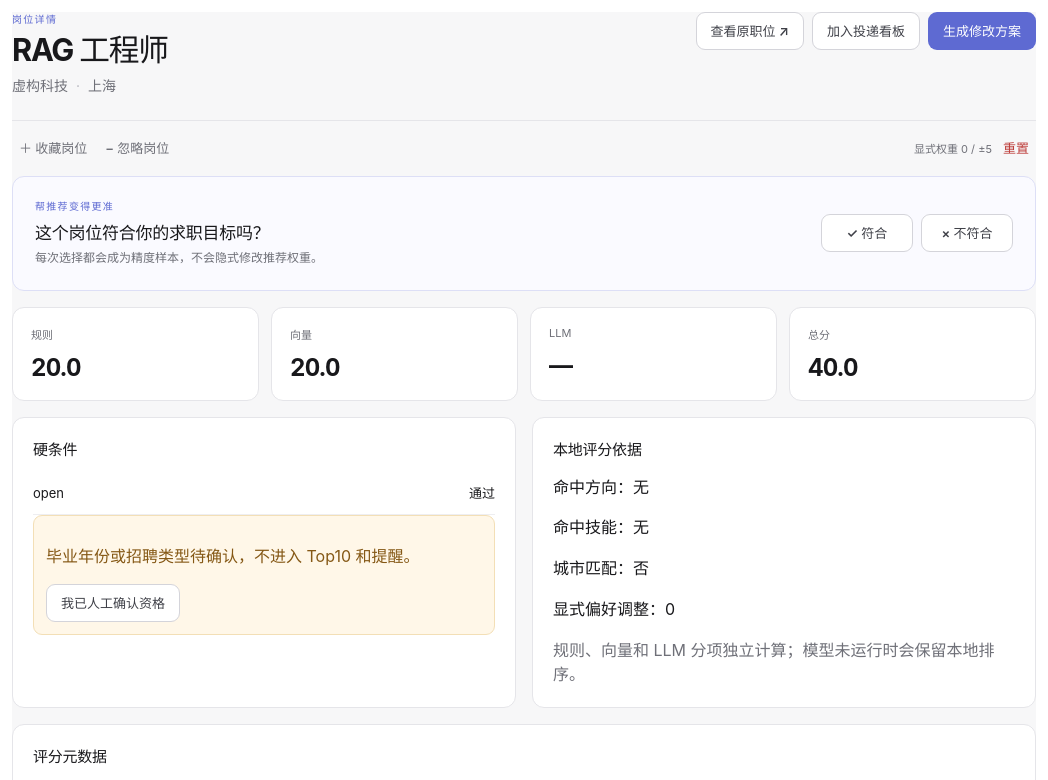
Test: 关键页面交互 › 人工确认资格后立即移出待确认并显示反馈
What coordinates should you click on to do the following:
click the button "我已人工确认资格"
I would click on:
 (113, 603)
Its box is [46,584,180,622].
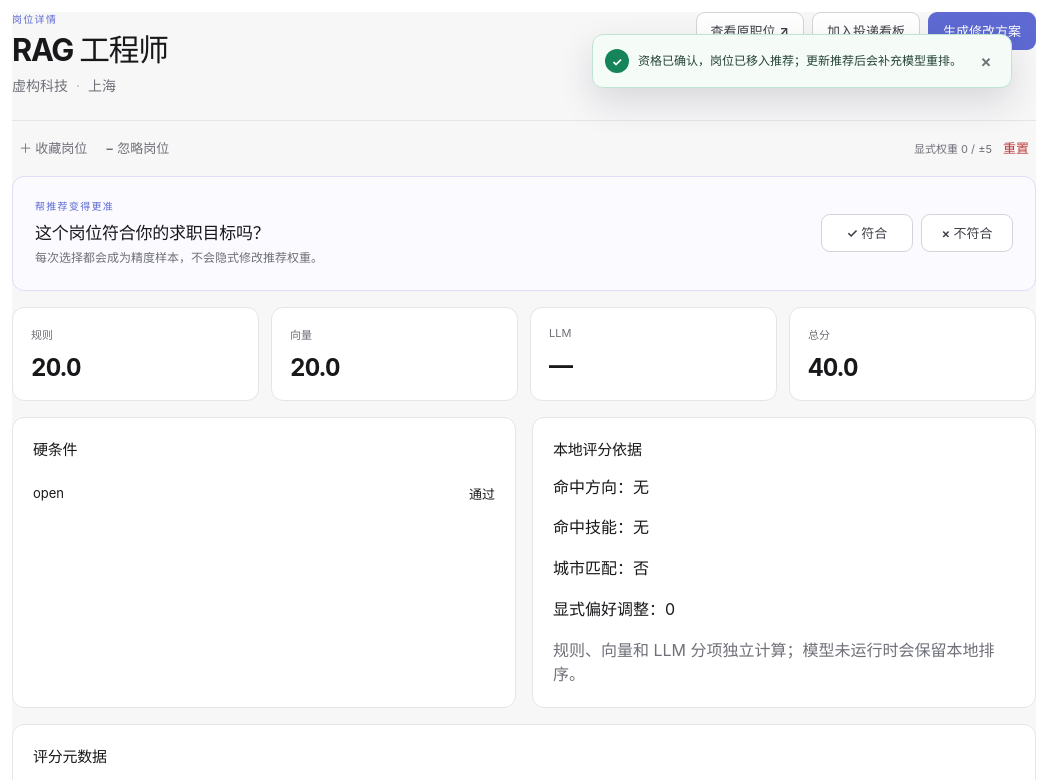
Now the text "资格已确认，岗位已移入推荐；更新推荐后会补充模型重排。" is shown, box [638,52,964,70]
Now the button "我已人工确认资格" is gone
